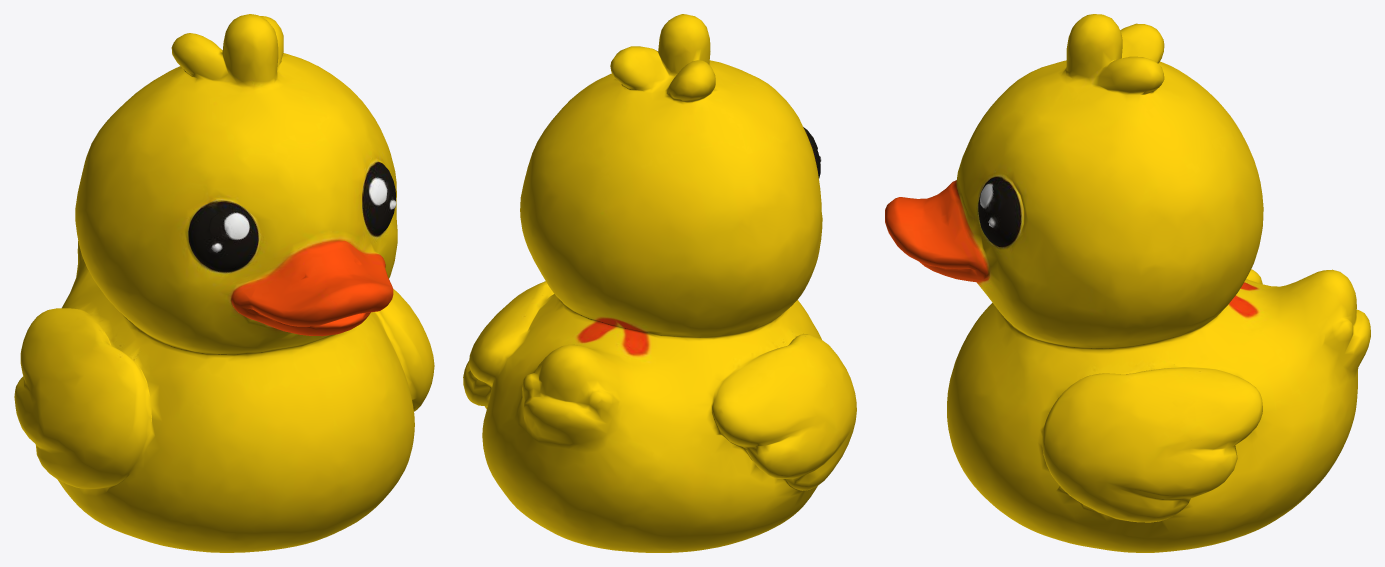
The model's file is duck.glb.
3 renders of one model, left to right at view 1: azimuth 30°, elevation 25°; view 2: azimuth 150°, elevation 25°; view 3: azimuth 270°, elevation 25°, orthographic. The views are drawn at different scales.
Parts seen in each view (by area): view 1: tripo_node_348d44bd-61bd-44be-baea-b95478ee1b6b; view 2: tripo_node_348d44bd-61bd-44be-baea-b95478ee1b6b; view 3: tripo_node_348d44bd-61bd-44be-baea-b95478ee1b6b.
Part boxes in pixels (x1,y1,x2,y2): tripo_node_348d44bd-61bd-44be-baea-b95478ee1b6b: (14, 14, 434, 552); tripo_node_348d44bd-61bd-44be-baea-b95478ee1b6b: (463, 14, 856, 552); tripo_node_348d44bd-61bd-44be-baea-b95478ee1b6b: (885, 14, 1370, 552).
Size of the model in its own units: 0.7724 by 0.9803 by 0.8911.
1 material, 1 textured.
